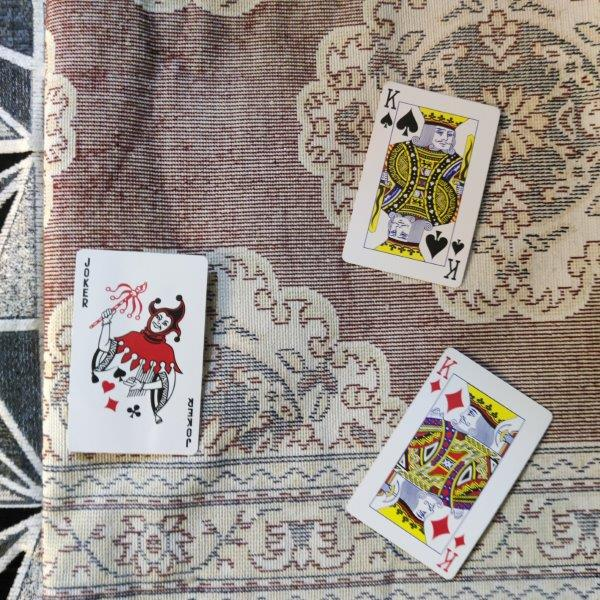Joker: (66, 248, 208, 456)
King of Diamonds: (346, 348, 553, 578)
King of Spades: (342, 81, 500, 287)
